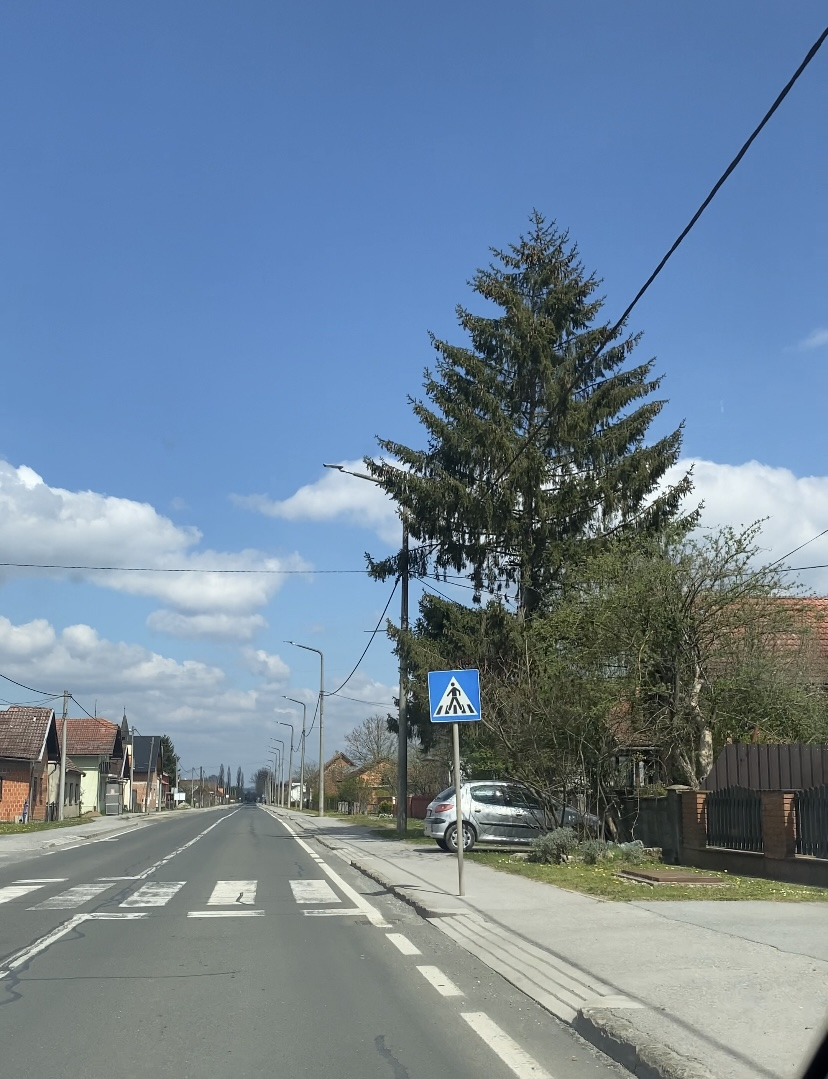Pješački prijelaz: (428, 669, 481, 722)
